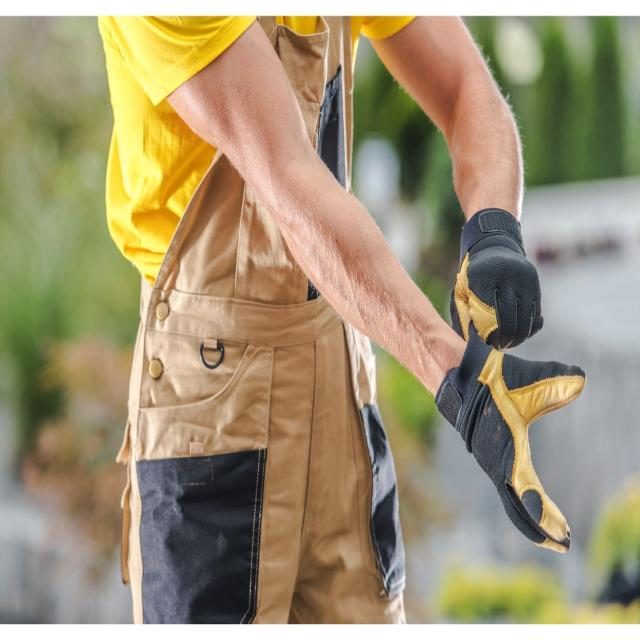gloves: (434, 332, 586, 552), (448, 209, 544, 354)
